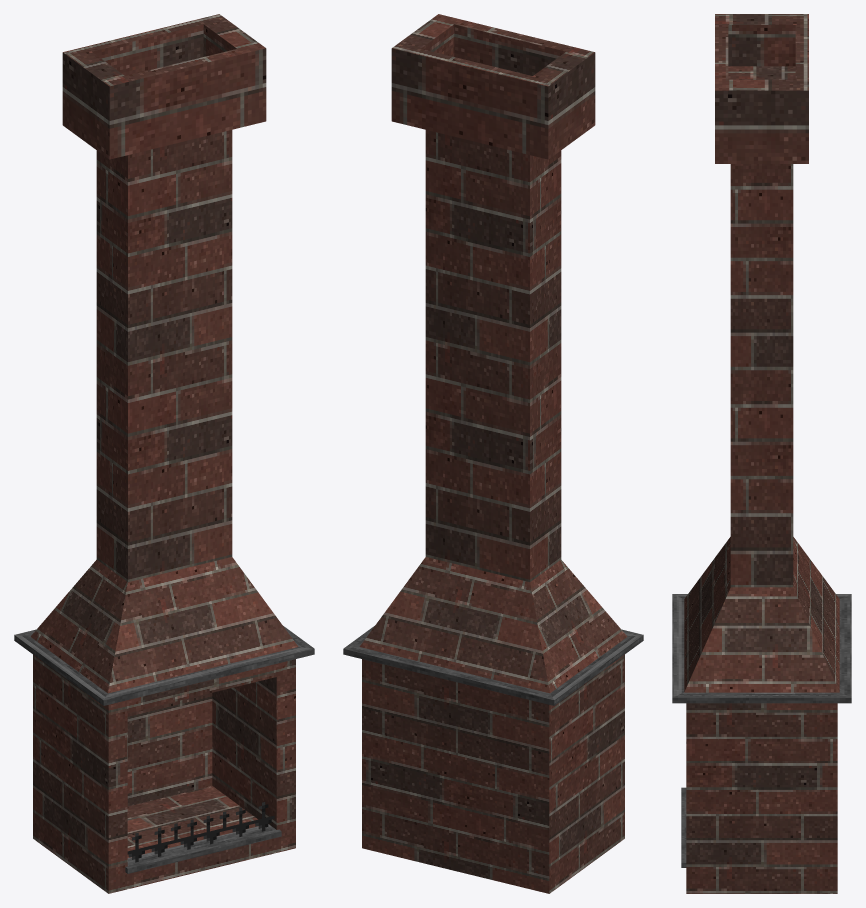
File: pixel_fireplace_lowpoly.fbx
3 views of the same model, side by side, from view 1: azimuth 30°, elevation 25°; view 2: azimuth 150°, elevation 25°; view 3: azimuth 270°, elevation 25° (orthographic).
Visible parts, largest first — view 1: psx_fireplace_brick, psx_fireplace_stone, psx_fireplace_fence; view 2: psx_fireplace_brick, psx_fireplace_stone; view 3: psx_fireplace_brick, psx_fireplace_stone.
Part boxes in pixels (x1,y1,x2,y2): psx_fireplace_brick: (30,14,298,893); psx_fireplace_stone: (14,626,314,873); psx_fireplace_fence: (127,802,274,862); psx_fireplace_brick: (359,14,627,893); psx_fireplace_stone: (343,626,643,705); psx_fireplace_brick: (684,14,839,893); psx_fireplace_stone: (672,594,851,867).
Size of the model in its own units: 226 by 810 by 165.
